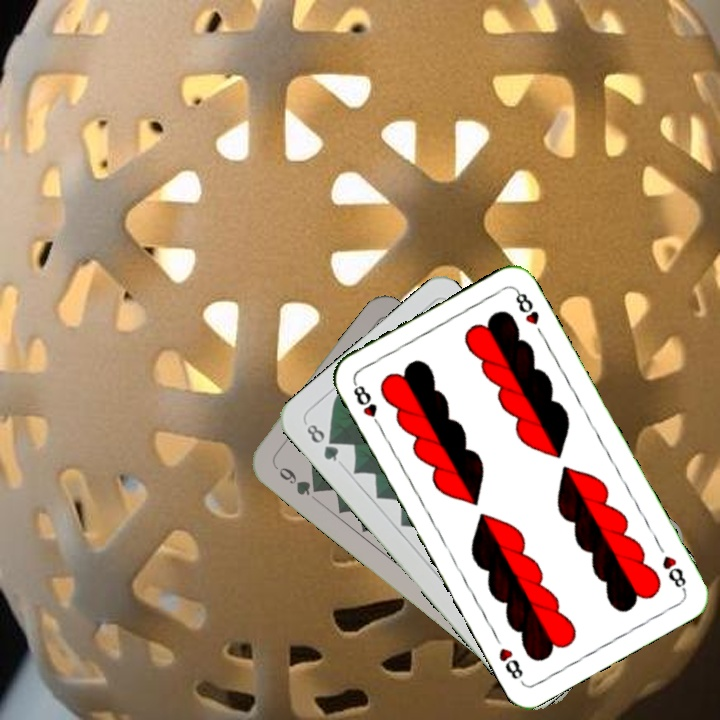G8: (302, 419, 342, 465)
G9: (269, 460, 324, 498)
H8: (349, 378, 385, 432), (658, 551, 689, 594)
